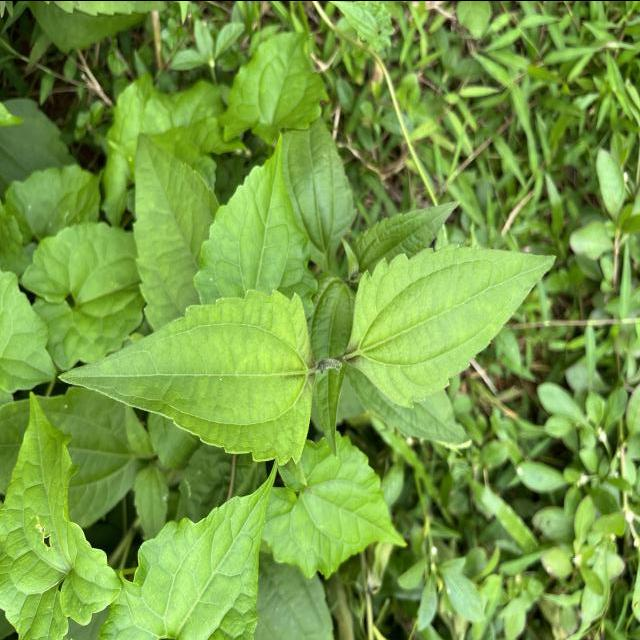Chromolaena odorata: (54, 284, 322, 468), (340, 239, 562, 412)
